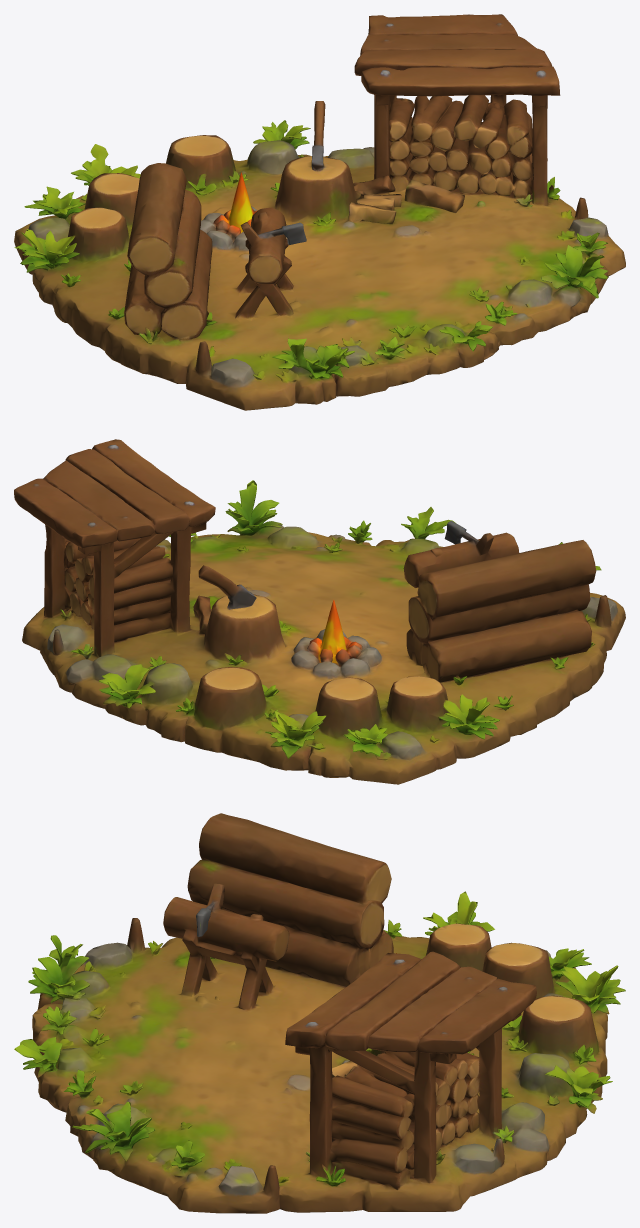
Rendered from campfire scene 3d model.glb.
The picture shows the model from 3 angles, top to bottom: view 1: azimuth 30°, elevation 25°; view 2: azimuth 150°, elevation 25°; view 3: azimuth 270°, elevation 25°; orthographic projection. The views are drawn at different scales.
Parts seen in each view (by area): view 1: tripo_node_b6ec1c41-0b95-42b1-9646-626065baa8c6; view 2: tripo_node_b6ec1c41-0b95-42b1-9646-626065baa8c6; view 3: tripo_node_b6ec1c41-0b95-42b1-9646-626065baa8c6.
Boxes of the visible parts, x1,y1,x2,y2 form: tripo_node_b6ec1c41-0b95-42b1-9646-626065baa8c6: (14,14,625,410); tripo_node_b6ec1c41-0b95-42b1-9646-626065baa8c6: (14,439,625,784); tripo_node_b6ec1c41-0b95-42b1-9646-626065baa8c6: (14,813,625,1213).
Size of the model in its own units: 1 by 0.3116 by 0.9796.
Materials: 1 (1 with a texture image).
